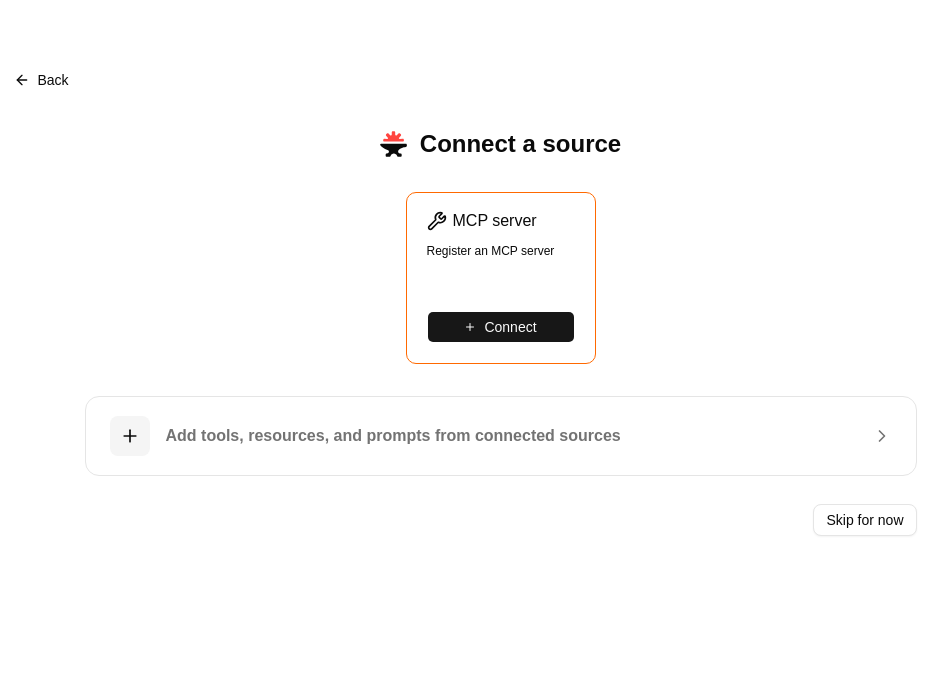
Test: SourceSelection › lazy-loads selectable MCP servers and hides sources already in the virtual server
Click the button "Add tools, resources, and prompts from connected sources" at (500, 436), box [84, 396, 916, 476]
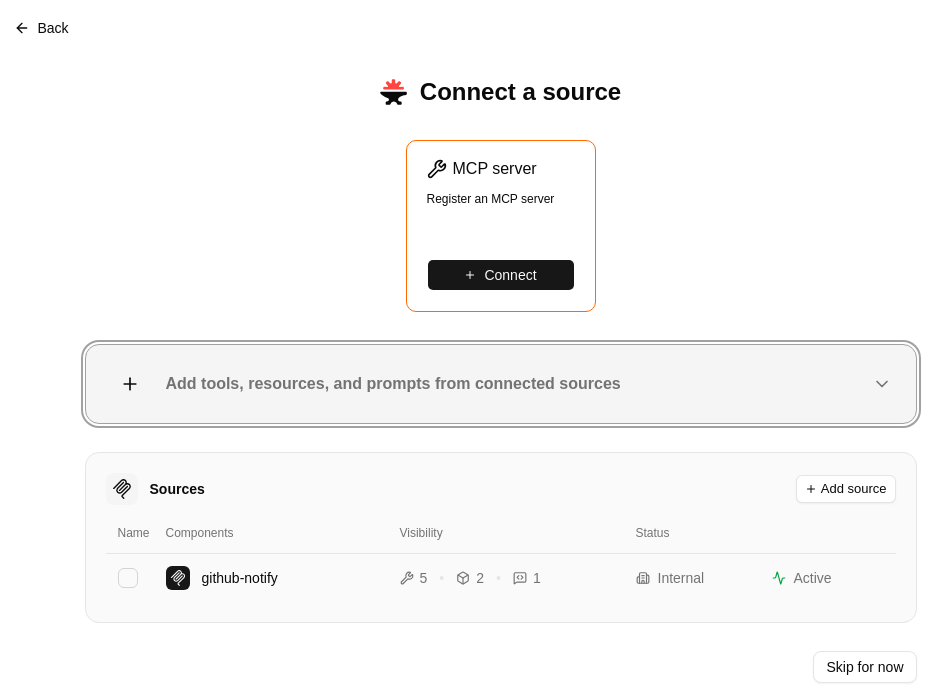
Expected: the button "Skip for now" is shown, [814, 651, 916, 683]
Result: the text "github-notify" is shown at [202, 568, 278, 588]
Result: the checkbox named "Select github-notify" is not checked
Click the checkbox named "Select github-notify" at (128, 578), box [118, 568, 138, 588]
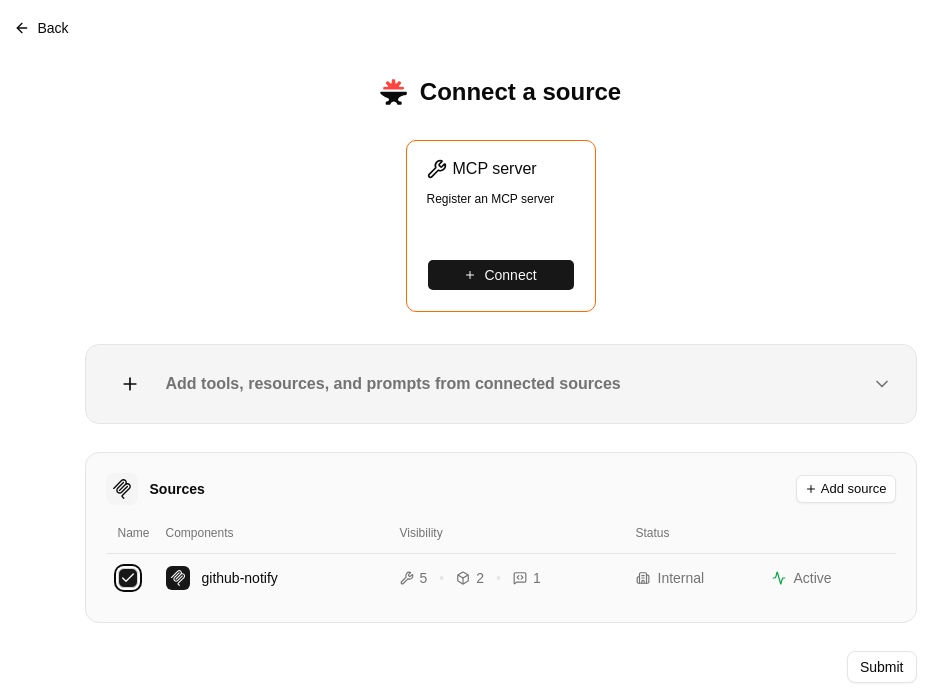
Result: the checkbox named "Select github-notify" is checked
Result: the button "Submit" is shown at [847, 651, 916, 683]
Click the checkbox named "Select github-notify" at (128, 578), box [118, 568, 138, 588]
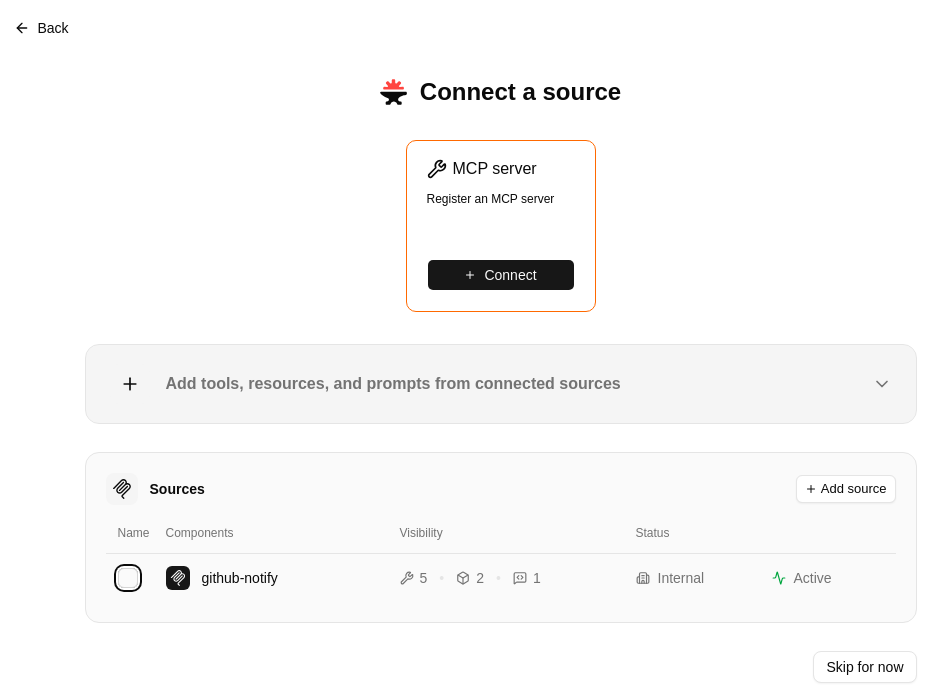
Result: the checkbox named "Select github-notify" is not checked at [118, 568, 138, 588]
Result: the button "Skip for now" is shown at [814, 651, 916, 683]
